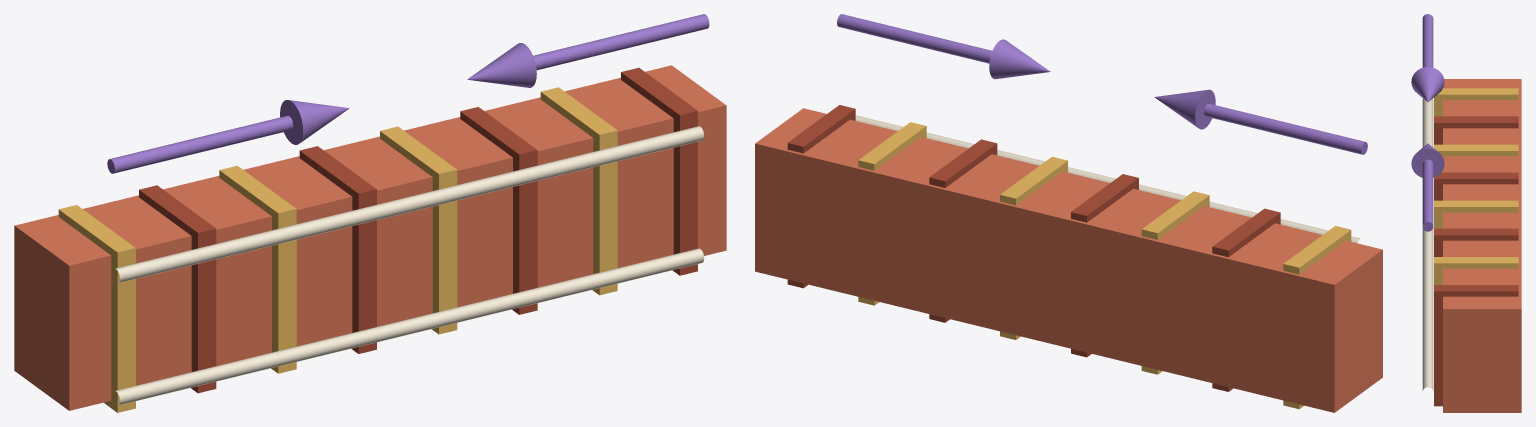
The model's file is muscle-cell.glb.
3 views of the same model, side by side, from view 1: azimuth 30°, elevation 25°; view 2: azimuth 150°, elevation 25°; view 3: azimuth 270°, elevation 25° (orthographic). The views are drawn at different scales.
Parts seen in each view (by area): view 1: long-muscle-fiber-body, actin-myosin-overlap-line-a, actin-myosin-overlap-line-b, striated-band-0, striated-band-1, striated-band-4, striated-band-6, striated-band-5, striated-band-2, striated-band-3, striated-band-7, contraction-direction-left-shaft (+3 smaller); view 2: long-muscle-fiber-body, contraction-direction-left-shaft, contraction-direction-right-shaft, actin-myosin-overlap-line-a, striated-band-2, striated-band-6, striated-band-0, striated-band-5, striated-band-1, striated-band-7, contraction-direction-right-head, striated-band-3 (+2 smaller); view 3: long-muscle-fiber-body, striated-band-7, actin-myosin-overlap-line-a, striated-band-1, striated-band-4, striated-band-5, striated-band-3, striated-band-0, striated-band-6, striated-band-2, actin-myosin-overlap-line-b, contraction-direction-left-head (+3 smaller).
Part boxes in pixels (<box>): long-muscle-fiber-body: <box>14,65,726,410</box>; actin-myosin-overlap-line-a: <box>115,126,704,283</box>; actin-myosin-overlap-line-b: <box>116,248,704,405</box>; striated-band-0: <box>58,205,135,412</box>; striated-band-1: <box>139,185,216,393</box>; striated-band-4: <box>380,126,457,334</box>; striated-band-6: <box>540,87,617,295</box>; striated-band-5: <box>460,107,537,314</box>; striated-band-2: <box>219,165,296,373</box>; striated-band-3: <box>299,146,376,353</box>; striated-band-7: <box>621,67,697,275</box>; contraction-direction-left-shaft: <box>107,115,293,173</box>; long-muscle-fiber-body: <box>755,108,1382,412</box>; contraction-direction-left-shaft: <box>1204,103,1367,154</box>; contraction-direction-right-shaft: <box>837,14,992,63</box>; actin-myosin-overlap-line-a: <box>855,115,1360,242</box>; striated-band-2: <box>1141,191,1209,374</box>; striated-band-6: <box>858,122,926,305</box>; striated-band-0: <box>1283,226,1351,409</box>; striated-band-5: <box>929,139,997,322</box>; striated-band-1: <box>1212,208,1280,391</box>; striated-band-7: <box>787,105,855,288</box>; contraction-direction-right-head: <box>989,39,1050,79</box>; striated-band-3: <box>1071,174,1138,357</box>; long-muscle-fiber-body: <box>1443,79,1521,412</box>; striated-band-7: <box>1434,285,1518,406</box>; actin-myosin-overlap-line-a: <box>1422,98,1433,303</box>; striated-band-1: <box>1434,116,1518,144</box>; striated-band-4: <box>1434,200,1518,228</box>; striated-band-5: <box>1434,228,1518,256</box>; striated-band-3: <box>1434,172,1518,200</box>; striated-band-0: <box>1434,88,1518,116</box>; striated-band-6: <box>1434,257,1518,284</box>; striated-band-2: <box>1434,144,1518,172</box>; actin-myosin-overlap-line-b: <box>1422,299,1433,390</box>; contraction-direction-left-head: <box>1411,67,1444,101</box>.
Size of what is drawn, in the model's own units: 1.8 by 0.715 by 0.365.
